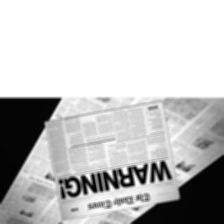news_paper: (0, 97, 224, 224), (39, 100, 180, 222)
